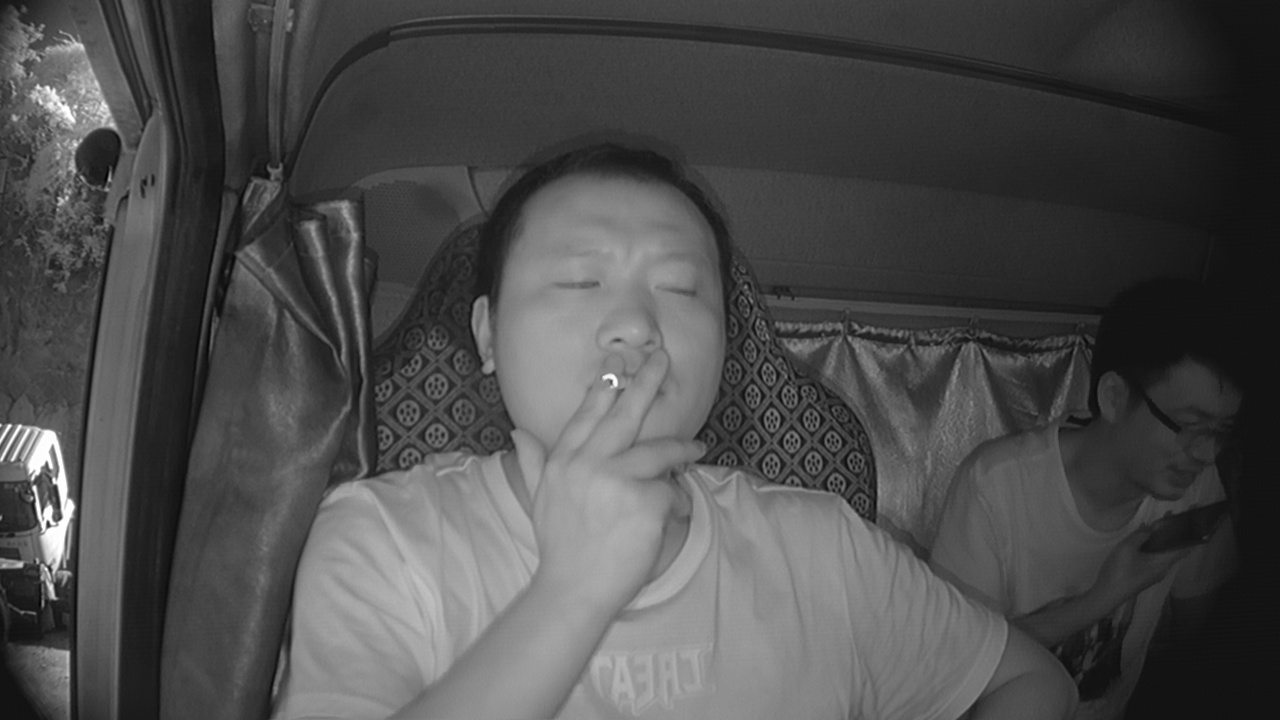hand: (555, 350, 710, 541)
